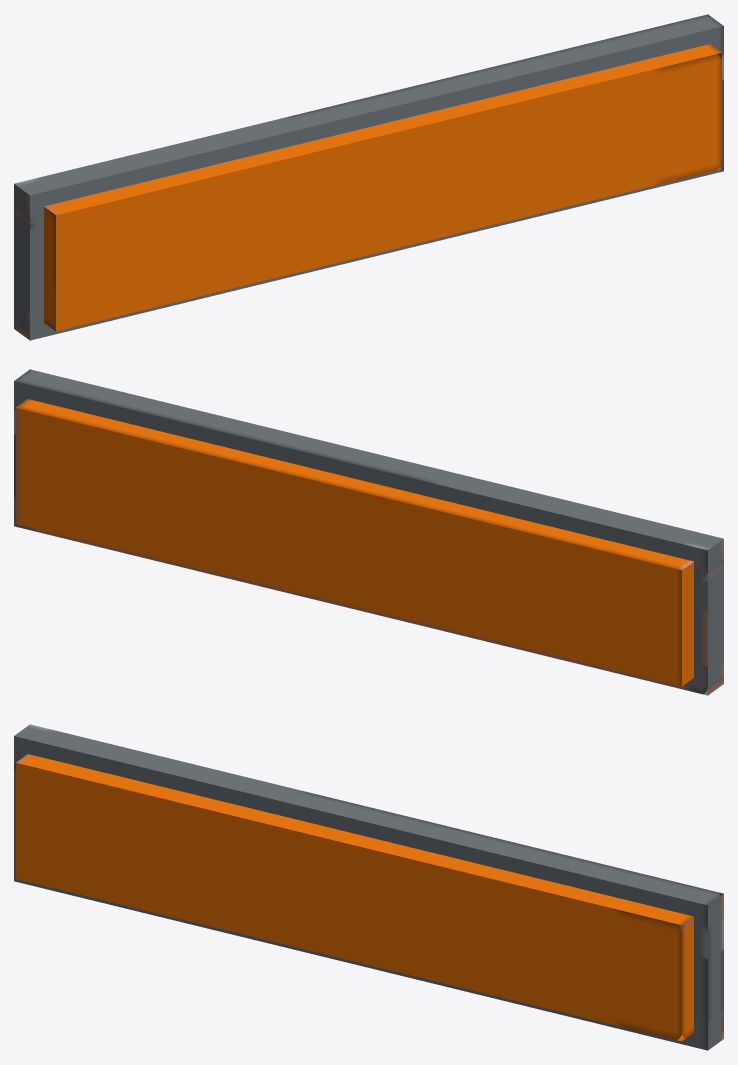
File: nl_station_sign_wall_ovg.obj
The picture shows the model from 3 angles, top to bottom: view 1: azimuth 30°, elevation 25°; view 2: azimuth 150°, elevation 25°; view 3: azimuth 330°, elevation 25°; orthographic projection.
Parts seen in each view (by area): view 1: sign_back, pole_top, pole_right; view 2: sign_front, pole_top, pole_right; view 3: sign_back, pole_top, pole_left.
Part boxes in pixels (x1,y1,x2,y2): sign_back: [44, 44, 721, 331]; pole_top: [14, 14, 723, 340]; pole_right: [14, 205, 47, 332]; sign_front: [16, 399, 693, 686]; pole_top: [14, 369, 723, 695]; pole_right: [687, 560, 723, 687]; sign_back: [16, 754, 693, 1041]; pole_top: [14, 724, 723, 1050]; pole_left: [680, 915, 723, 1042].
Bounding box in the file's own units: 3.12 × 0.625 × 0.3125.
1 material, 1 textured.
